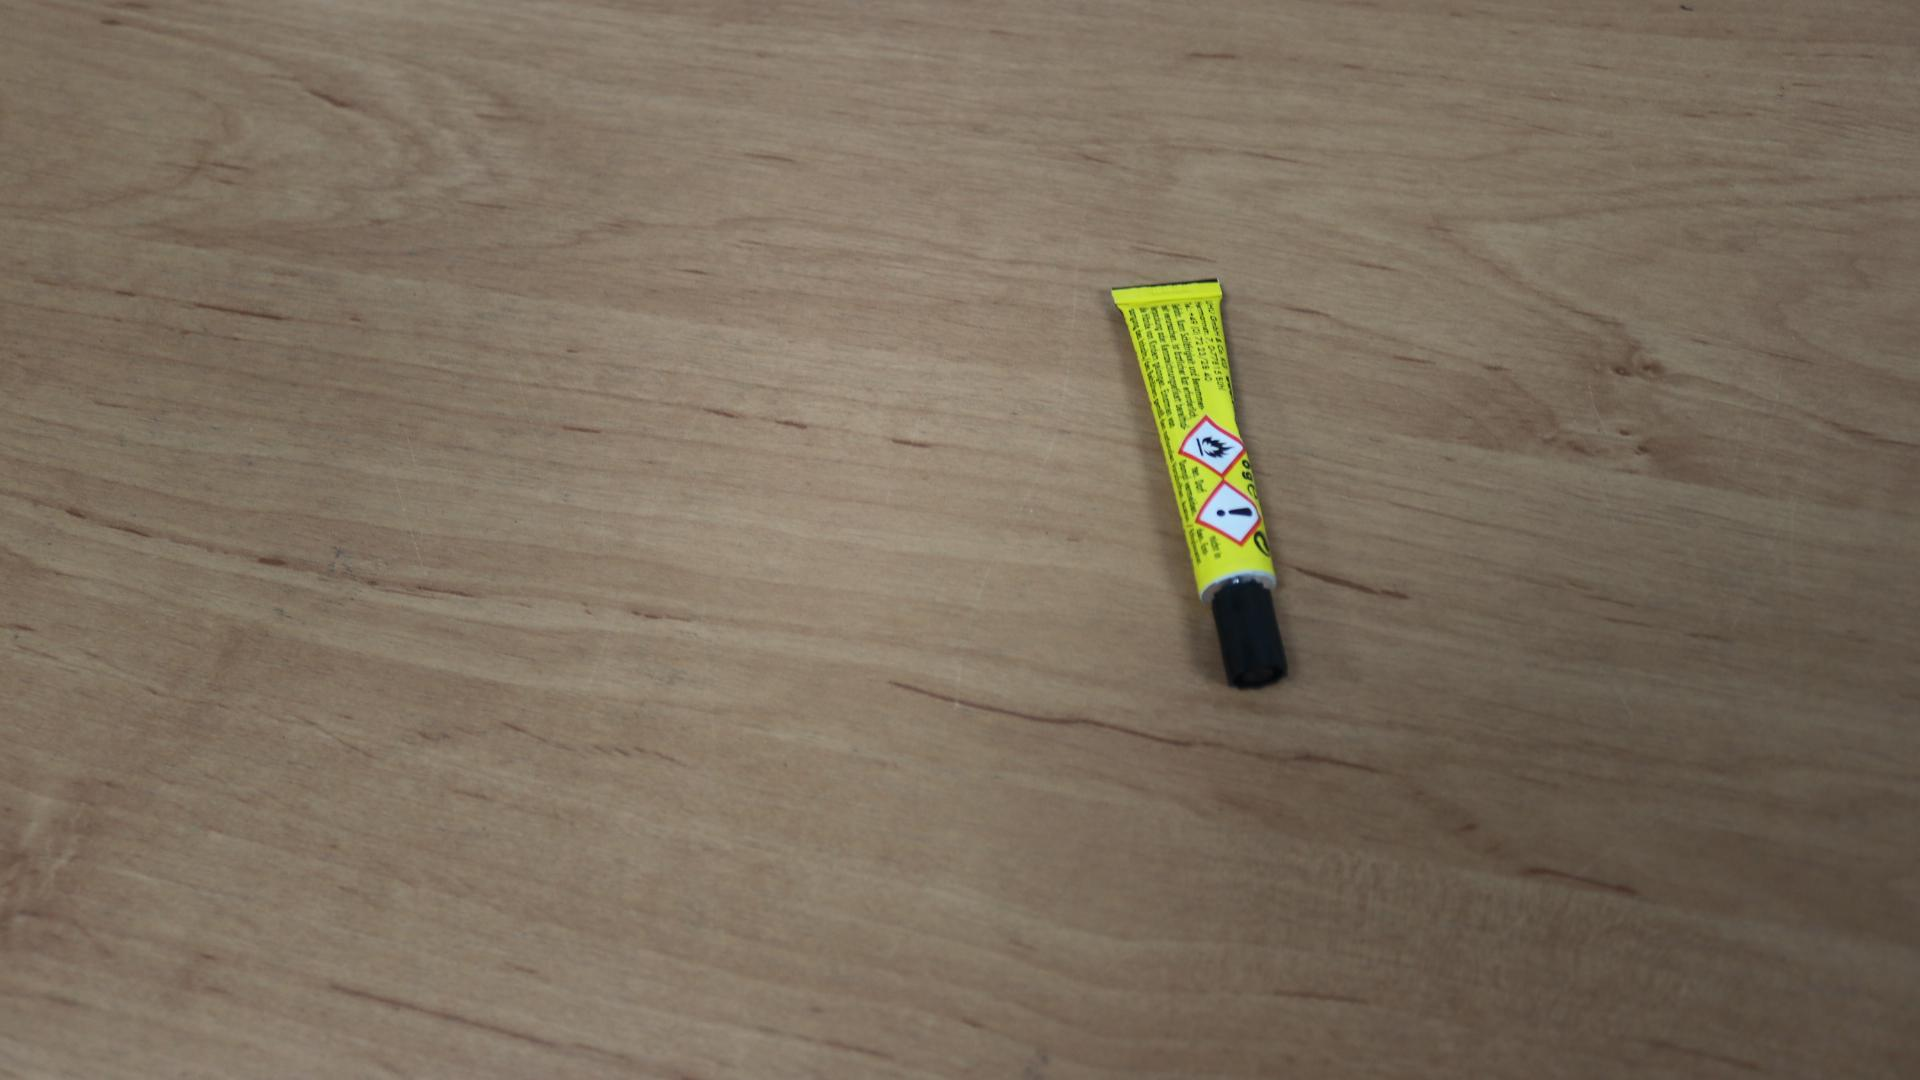Head: (1244, 622, 1255, 636)
Tail: (1162, 287, 1174, 299)
Tube: (1110, 277, 1287, 691)
